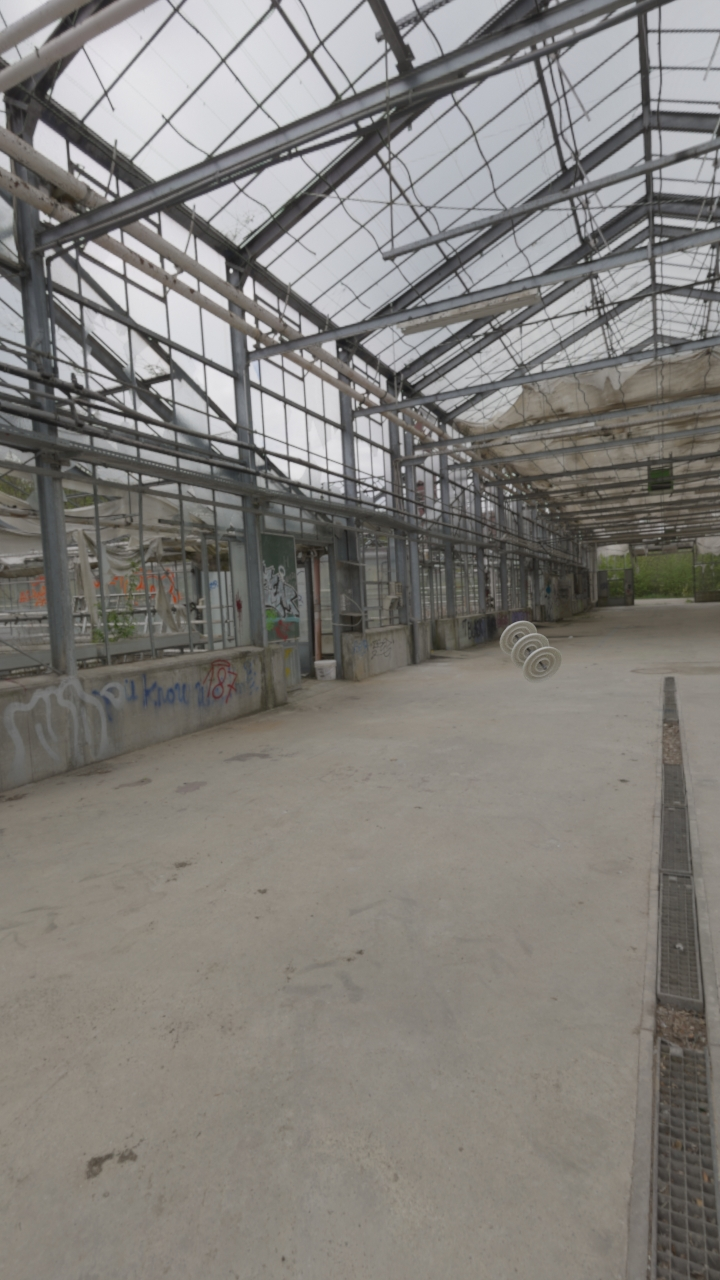ceramicinsulators: (500, 621, 563, 683)
